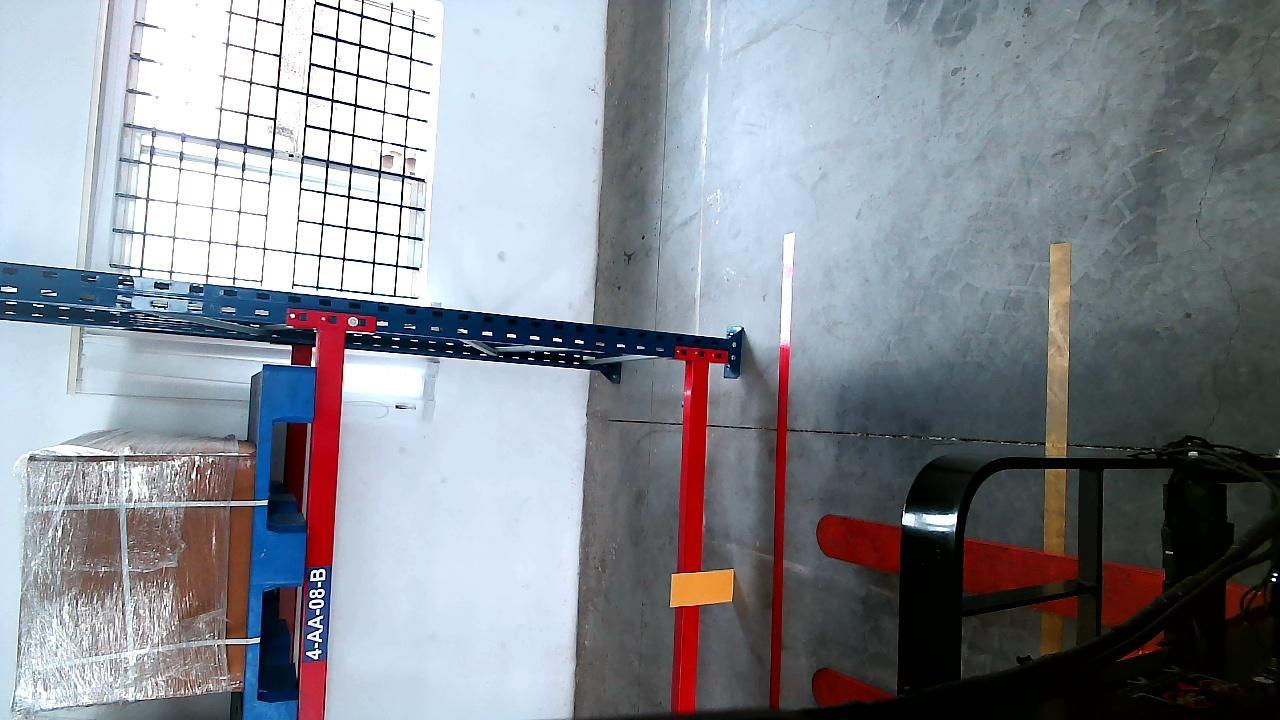red_line: (762, 233, 793, 720)
yellow_line: (1040, 231, 1071, 650)
